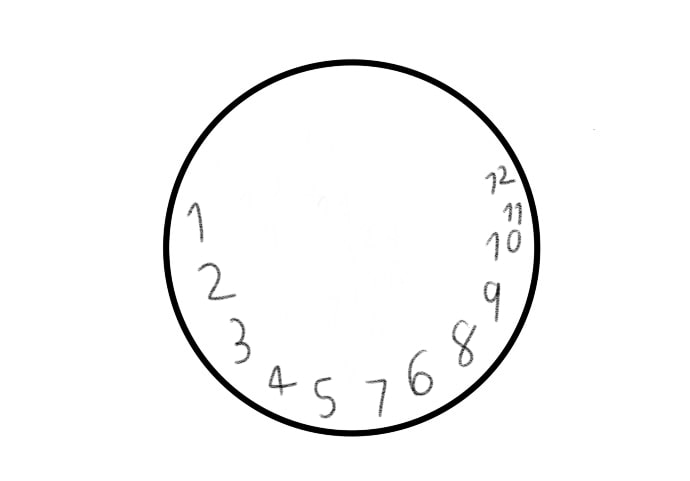eight: (449, 318, 478, 369)
eleven: (503, 200, 526, 226)
five: (311, 374, 336, 420)
four: (265, 360, 298, 399)
nine: (481, 279, 501, 322)
one: (186, 199, 207, 246)
seven: (363, 377, 387, 417)
six: (403, 348, 435, 397)
ten: (487, 229, 522, 263)
three: (226, 311, 253, 369)
twelve: (483, 163, 515, 194)
two: (193, 262, 236, 300)
